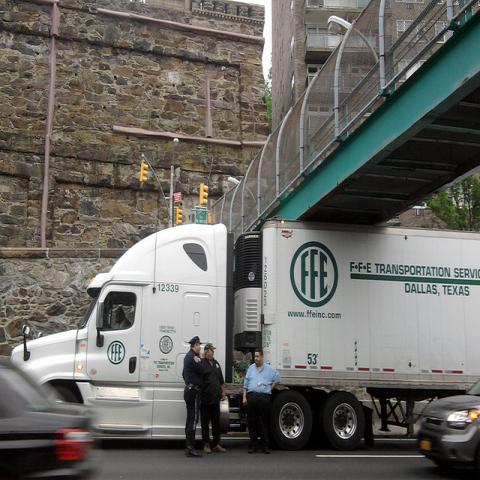car: (0, 356, 96, 473), (415, 377, 479, 473)
truck: (11, 218, 480, 456), (231, 232, 266, 354)
